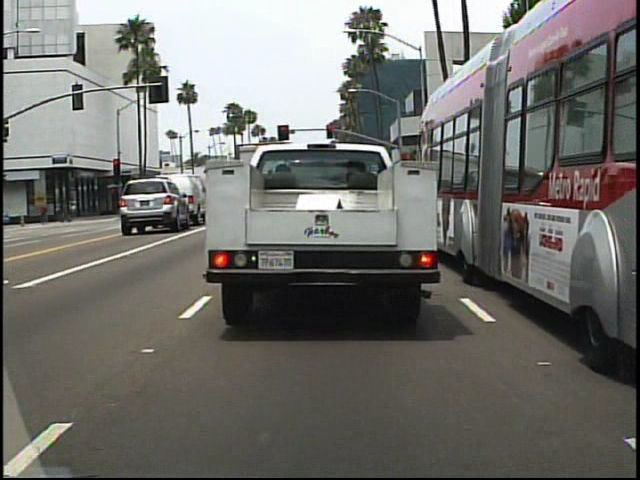person: (37, 195, 54, 226)
